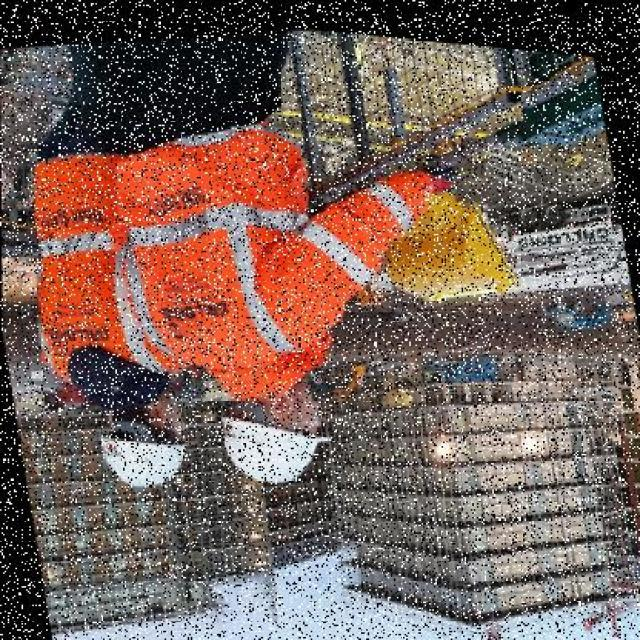helmet: (205, 385, 344, 494), (86, 405, 208, 499)
vest: (108, 100, 353, 409), (0, 120, 183, 398)
